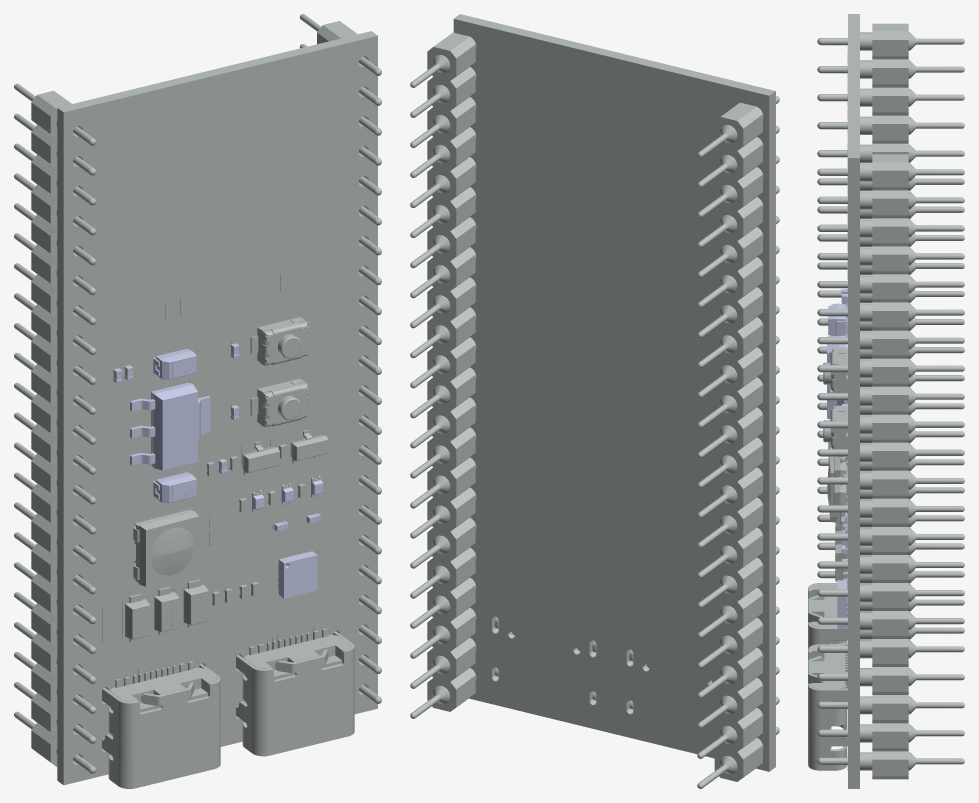
The model's file is carrier.glb.
3 views of the same model, side by side, from view 1: azimuth 30°, elevation 25°; view 2: azimuth 150°, elevation 25°; view 3: azimuth 270°, elevation 25° (orthographic). The views are drawn at different scales.
Bounding box in the file's own units: 0.0279 × 0.0571 × 0.0129.
